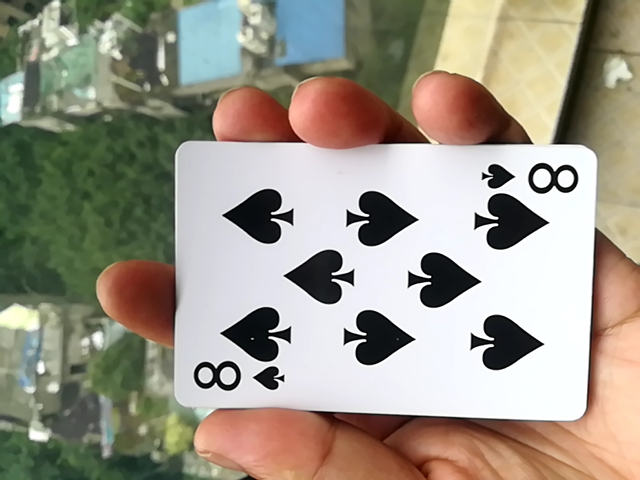ht 8: (150, 137, 585, 430)
